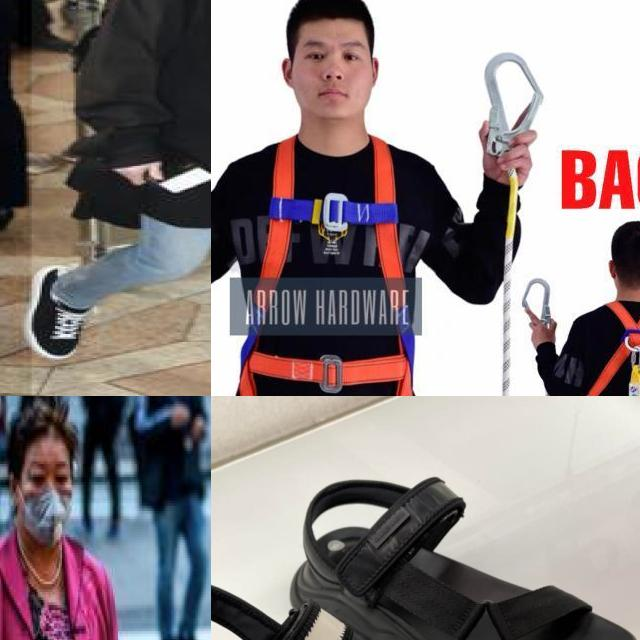Harness: (239, 137, 416, 396), (589, 303, 640, 396)
Sandals: (243, 449, 640, 640), (211, 560, 606, 640)
face_mask: (20, 451, 72, 547)
head_nohelmet: (5, 396, 76, 453)
person: (31, 0, 211, 396), (0, 398, 142, 640), (132, 396, 211, 640)
shoes: (17, 262, 98, 364), (175, 624, 210, 640)
